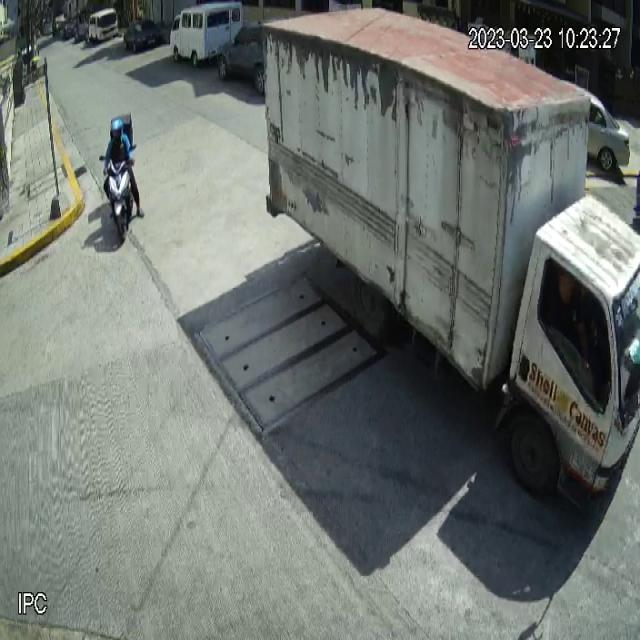Motorcycle: (98, 144, 138, 242)
Truck: (265, 5, 640, 518)
Van: (170, 1, 242, 68)
